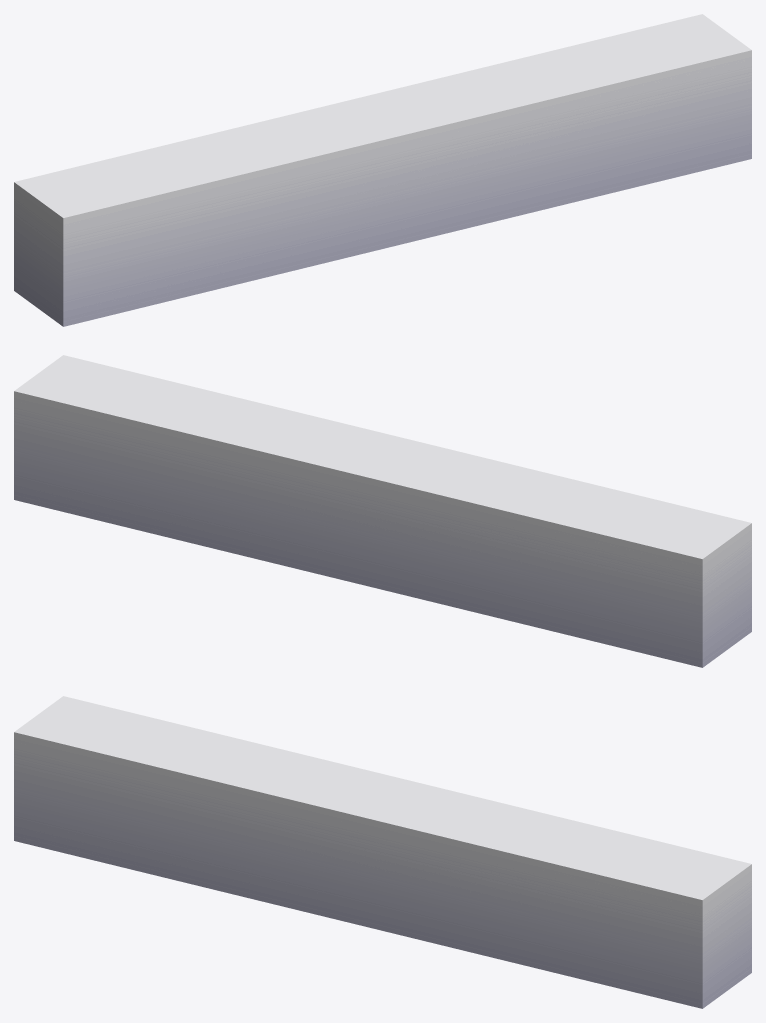
File: brick-kit--none-lq-brick-1x8.glb
The picture shows the model from 3 angles, top to bottom: view 1: azimuth 30°, elevation 25°; view 2: azimuth 150°, elevation 25°; view 3: azimuth 330°, elevation 25°; orthographic projection.
Parts seen in each view (by area): view 1: none-lq-brick-1x8; view 2: none-lq-brick-1x8; view 3: none-lq-brick-1x8.
Part boxes in pixels (left/top/right/bottom): none-lq-brick-1x8: left=14, top=14, right=751, bottom=326; none-lq-brick-1x8: left=14, top=355, right=751, bottom=667; none-lq-brick-1x8: left=14, top=696, right=751, bottom=1008.
Size of the model in its own units: 0.636 by 0.096 by 0.079.
1 material, 1 textured.
